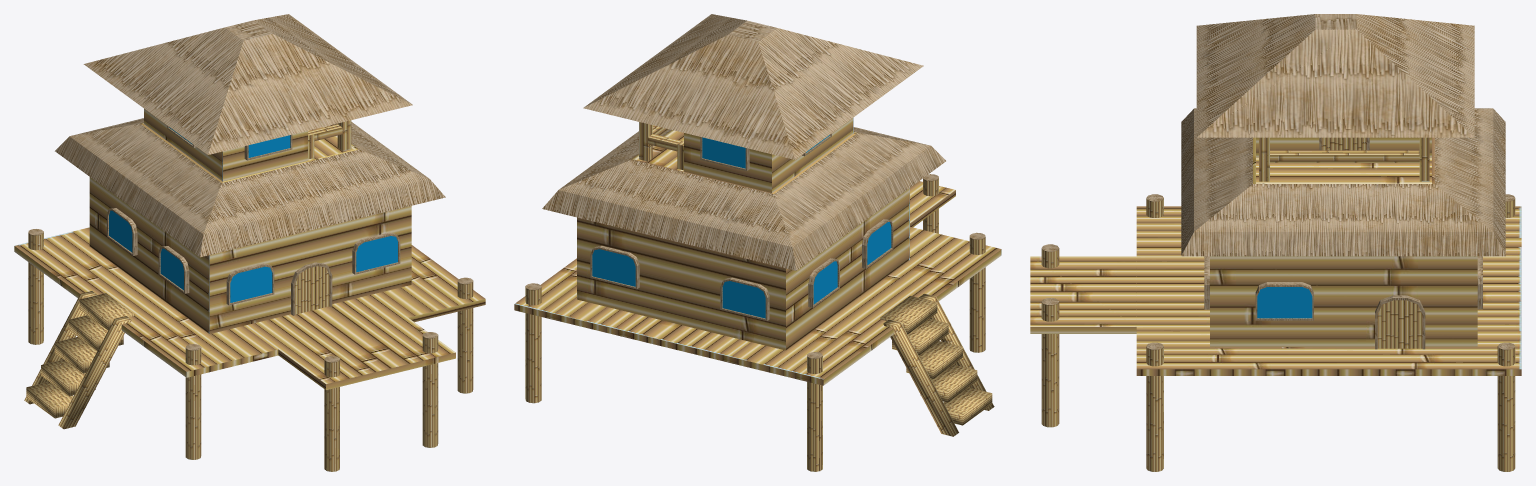
The model's file is CajaCasa 3.3.fbx.
3 renders of one model, left to right at view 1: azimuth 30°, elevation 25°; view 2: azimuth 150°, elevation 25°; view 3: azimuth 270°, elevation 25°, orthographic. The views are drawn at different scales.
Parts seen in each view (by area): view 1: Cube.001; view 2: Cube.001; view 3: Cube.001.
Part boxes in pixels (x1=…): Cube.001: x1=14, y1=14, x2=485, y2=471; Cube.001: x1=514, y1=14, x2=1001, y2=471; Cube.001: x1=1030, y1=14, x2=1521, y2=471.
Size of the model in its own units: 1050 by 929 by 1109.
41 materials, 31 textured.
